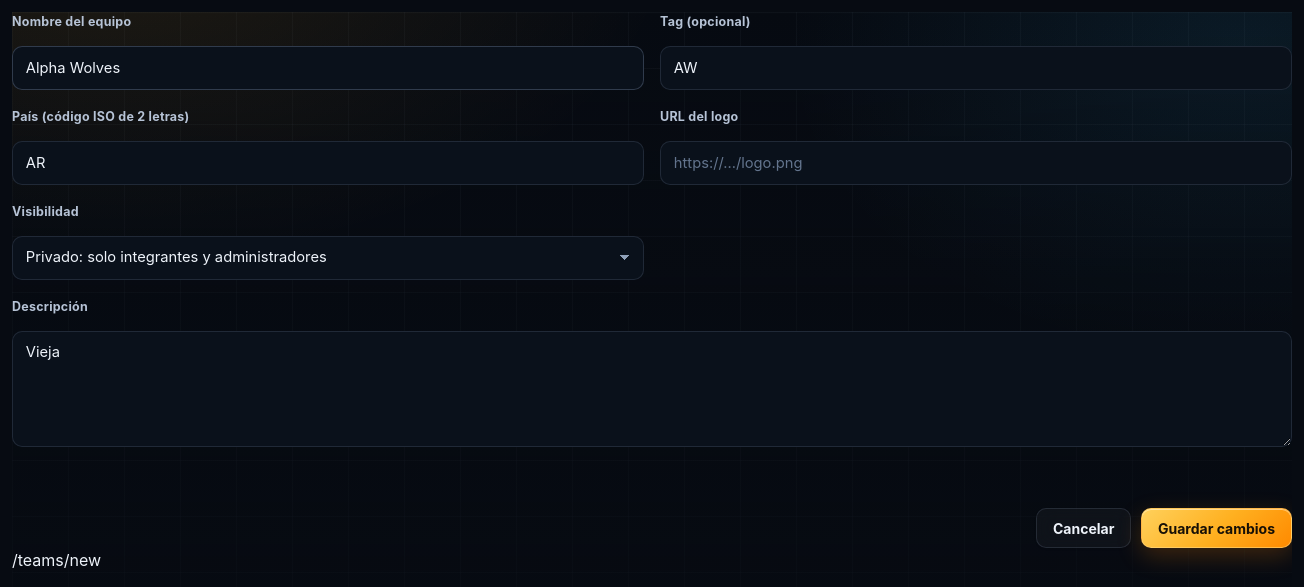
it: TeamForm › edits an existing team
The image size is (1304, 587).
Expected: the field labelled "Nombre del equipo" holds "Alpha Wolves", [12,46,644,90]
Replace the text in the text box labelled "Descripción" with "Nueva" at (652, 389), box [12,331,1292,447]
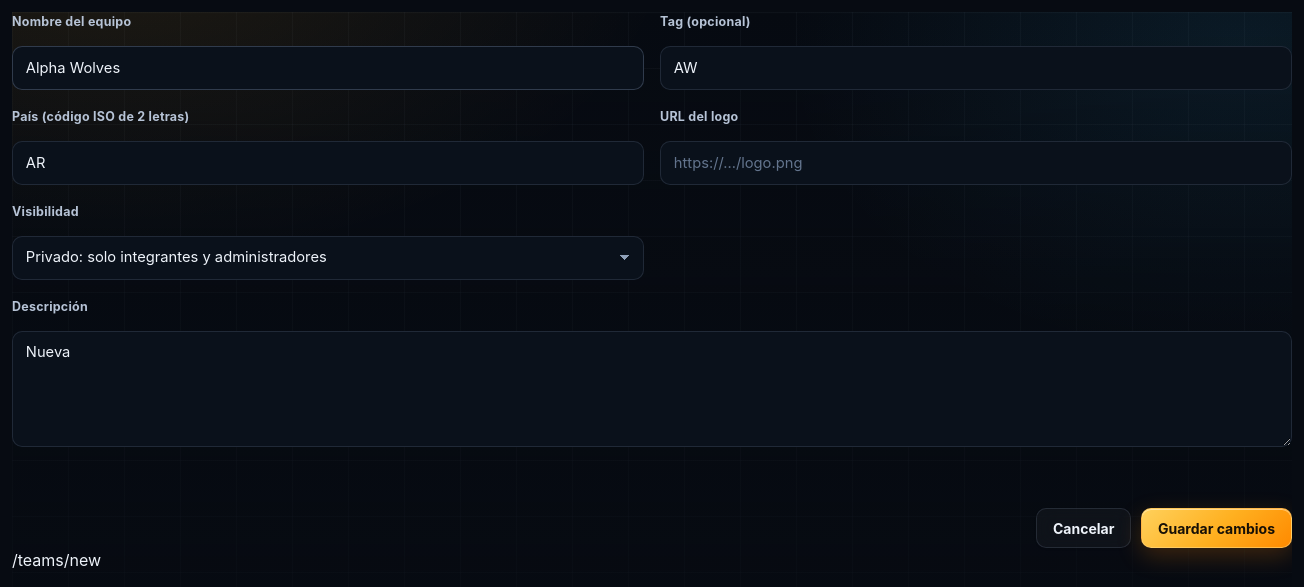
Click the button "Guardar cambios".
click(1216, 528)  # box [1141,508,1292,548]
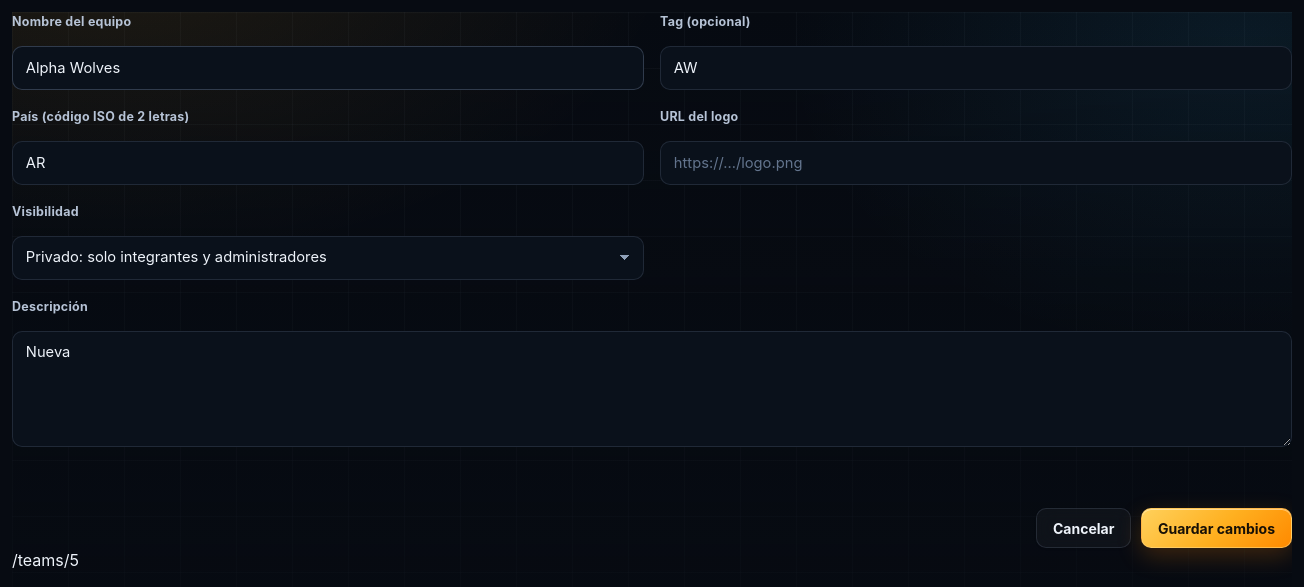
Now the text with test id "location" reads "/teams/5", box [12,550,79,570]
